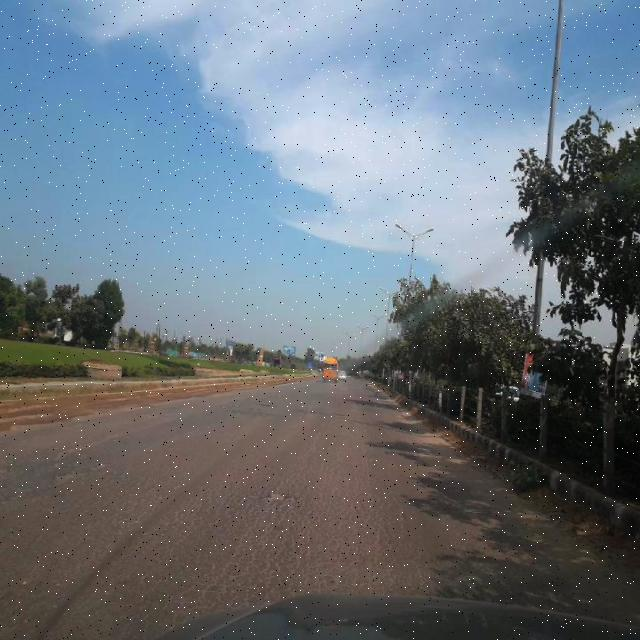D20: (7, 421, 435, 592)
D40: (253, 482, 300, 506), (49, 464, 96, 487)
